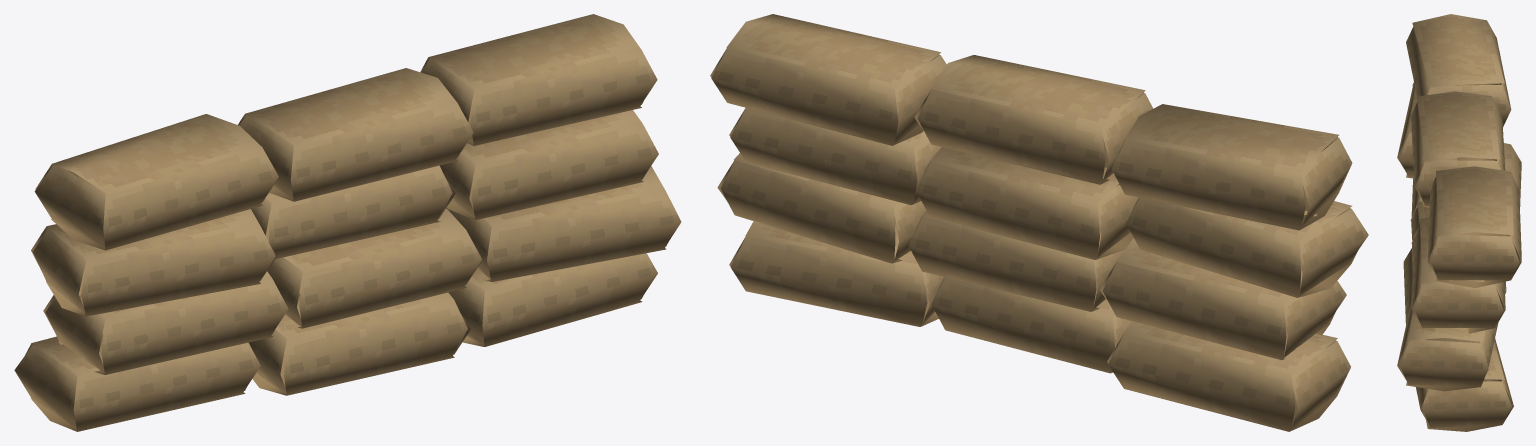
The model's file is sandbag_light.glb.
3 renders of one model, left to right at view 1: azimuth 30°, elevation 25°; view 2: azimuth 150°, elevation 25°; view 3: azimuth 270°, elevation 25°, orthographic. The views are drawn at different scales.
Visible parts, largest first — view 1: sandbag_light; view 2: sandbag_light; view 3: sandbag_light.
Part boxes in pixels (x1,y1,x2,y2): sandbag_light: [14, 14, 681, 431]; sandbag_light: [710, 14, 1368, 431]; sandbag_light: [1397, 14, 1521, 431].
Bounding box in the file's own units: 2.14 × 0.8801 × 0.4828.
1 material, 1 textured.
